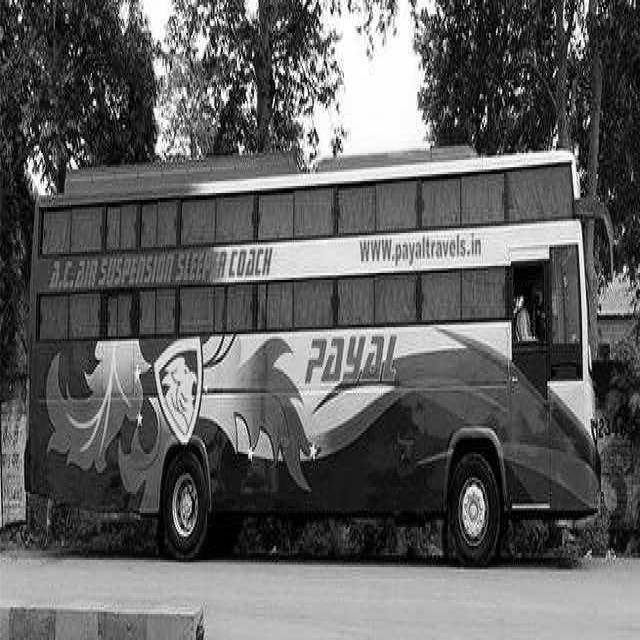Bus: (27, 166, 617, 563)
